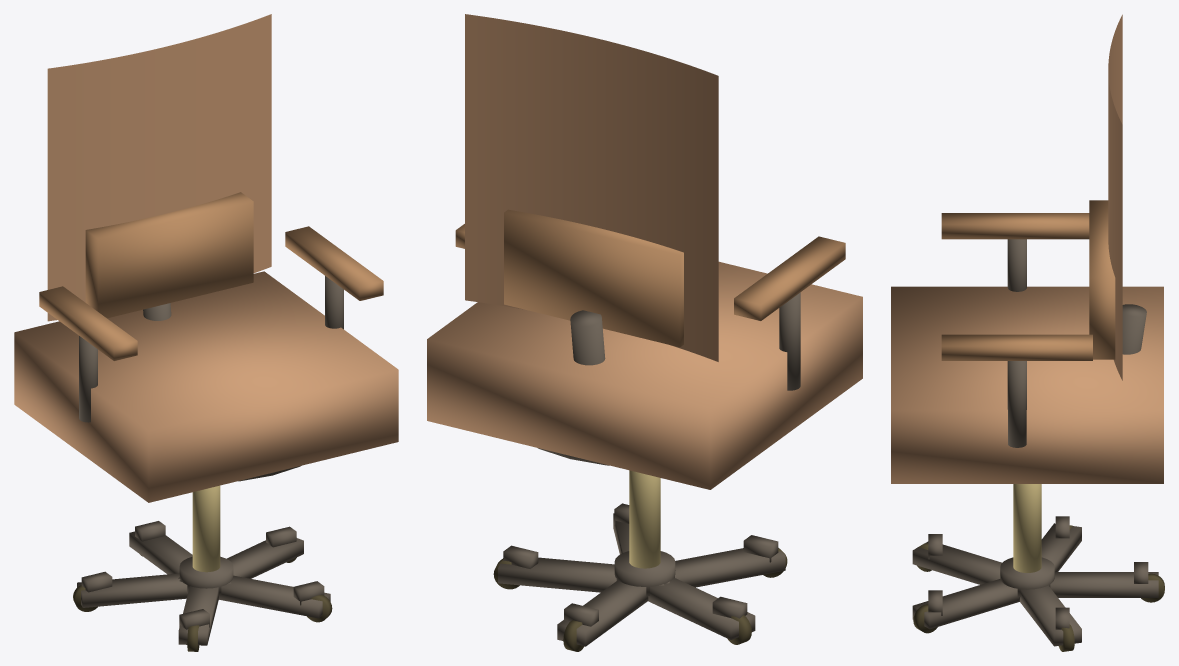
File: chair.glb
The picture shows the model from 3 angles, left to right: view 1: azimuth 30°, elevation 25°; view 2: azimuth 150°, elevation 25°; view 3: azimuth 270°, elevation 25°; orthographic projection. The views are drawn at different scales.
Visible parts, largest first — view 1: seat_cushion, back_shell, lumbar, arm_pad_R, arm_pad_L, leg_4, leg_2, gaslift, leg_1, leg_0, arm_post_L, leg_3 (+2 smaller); view 2: back_shell, seat_cushion, lumbar, arm_pad_L, leg_1, gaslift, leg_3, leg_4, leg_0, arm_post_L, neck, hub (+1 smaller); view 3: seat_cushion, back_shell, arm_pad_R, arm_pad_L, lumbar, gaslift, leg_0, leg_2, leg_3, leg_1, arm_post_R, hub (+3 smaller).
Boxes of the visible parts, bbox=[...] form: seat_cushion: bbox=[14, 271, 398, 502]; back_shell: bbox=[47, 14, 271, 321]; lumbar: bbox=[85, 192, 253, 318]; arm_pad_R: bbox=[285, 226, 383, 300]; arm_pad_L: bbox=[39, 286, 137, 360]; leg_4: bbox=[77, 573, 187, 607]; leg_2: bbox=[178, 575, 330, 618]; gaslift: bbox=[192, 485, 220, 572]; leg_1: bbox=[179, 538, 303, 581]; leg_0: bbox=[129, 531, 230, 599]; arm_post_L: bbox=[79, 336, 97, 422]; leg_3: bbox=[178, 586, 218, 645]; back_shell: bbox=[465, 14, 718, 361]; seat_cushion: bbox=[427, 261, 862, 489]; lumbar: bbox=[504, 209, 683, 347]; arm_pad_L: bbox=[734, 236, 845, 320]; leg_1: bbox=[498, 557, 675, 592]; gaslift: bbox=[629, 470, 660, 568]; leg_3: bbox=[675, 548, 785, 587]; leg_4: bbox=[648, 577, 755, 639]; leg_0: bbox=[557, 580, 647, 646]; arm_post_L: bbox=[779, 292, 800, 390]; neck: bbox=[570, 310, 605, 365]; hub: bbox=[614, 551, 675, 595]; seat_cushion: bbox=[891, 286, 1163, 483]; back_shell: bbox=[1108, 14, 1122, 380]; arm_pad_R: bbox=[941, 334, 1092, 360]; arm_pad_L: bbox=[941, 213, 1089, 239]; lumbar: bbox=[1089, 200, 1115, 359]; gaslift: bbox=[1013, 484, 1041, 572]; leg_0: bbox=[1002, 572, 1158, 597]; leg_2: bbox=[912, 579, 1019, 629]; leg_3: bbox=[912, 541, 1001, 584]; leg_1: bbox=[1020, 585, 1081, 646]; arm_post_R: bbox=[1007, 361, 1026, 447]; hub: bbox=[1000, 557, 1054, 597].
Bounding box in the file's own units: 0.625 × 1.16 × 0.542.
